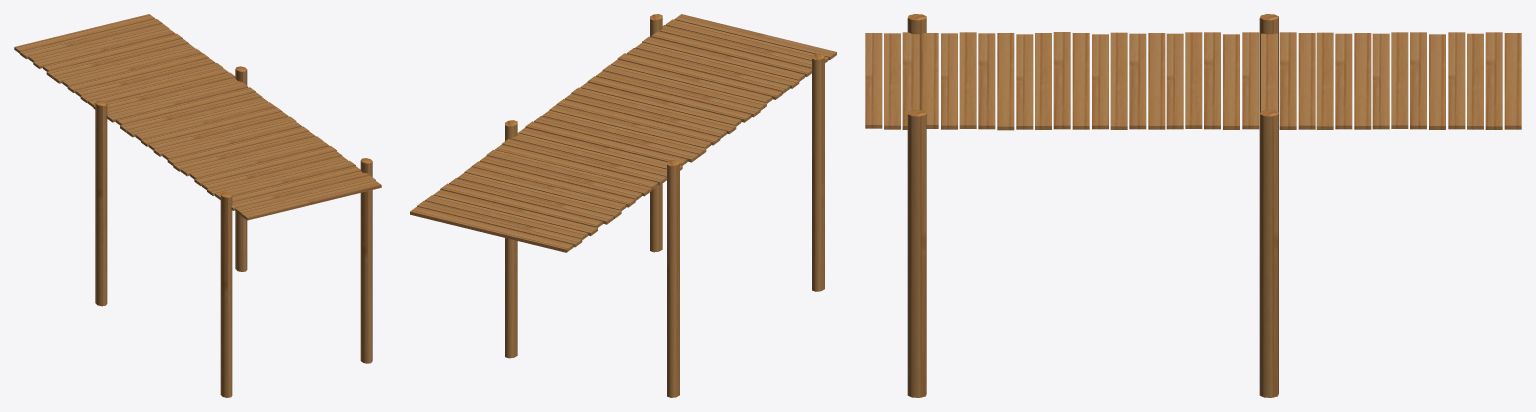
File: WoodBridges_2.fbx
The picture shows the model from 3 angles, left to right: view 1: azimuth 30°, elevation 25°; view 2: azimuth 150°, elevation 25°; view 3: azimuth 270°, elevation 25°; orthographic projection. The views are drawn at different scales.
Visible parts, largest first — view 1: WoodBridge_2_01; view 2: WoodBridge_2_01; view 3: WoodBridge_2_01.
Part boxes in pixels (x1,y1,x2,y2): WoodBridge_2_01: [14, 14, 381, 397]; WoodBridge_2_01: [410, 14, 836, 397]; WoodBridge_2_01: [865, 14, 1521, 397].
Size of the model in its own units: 11.34 by 14.64 by 30.69.
